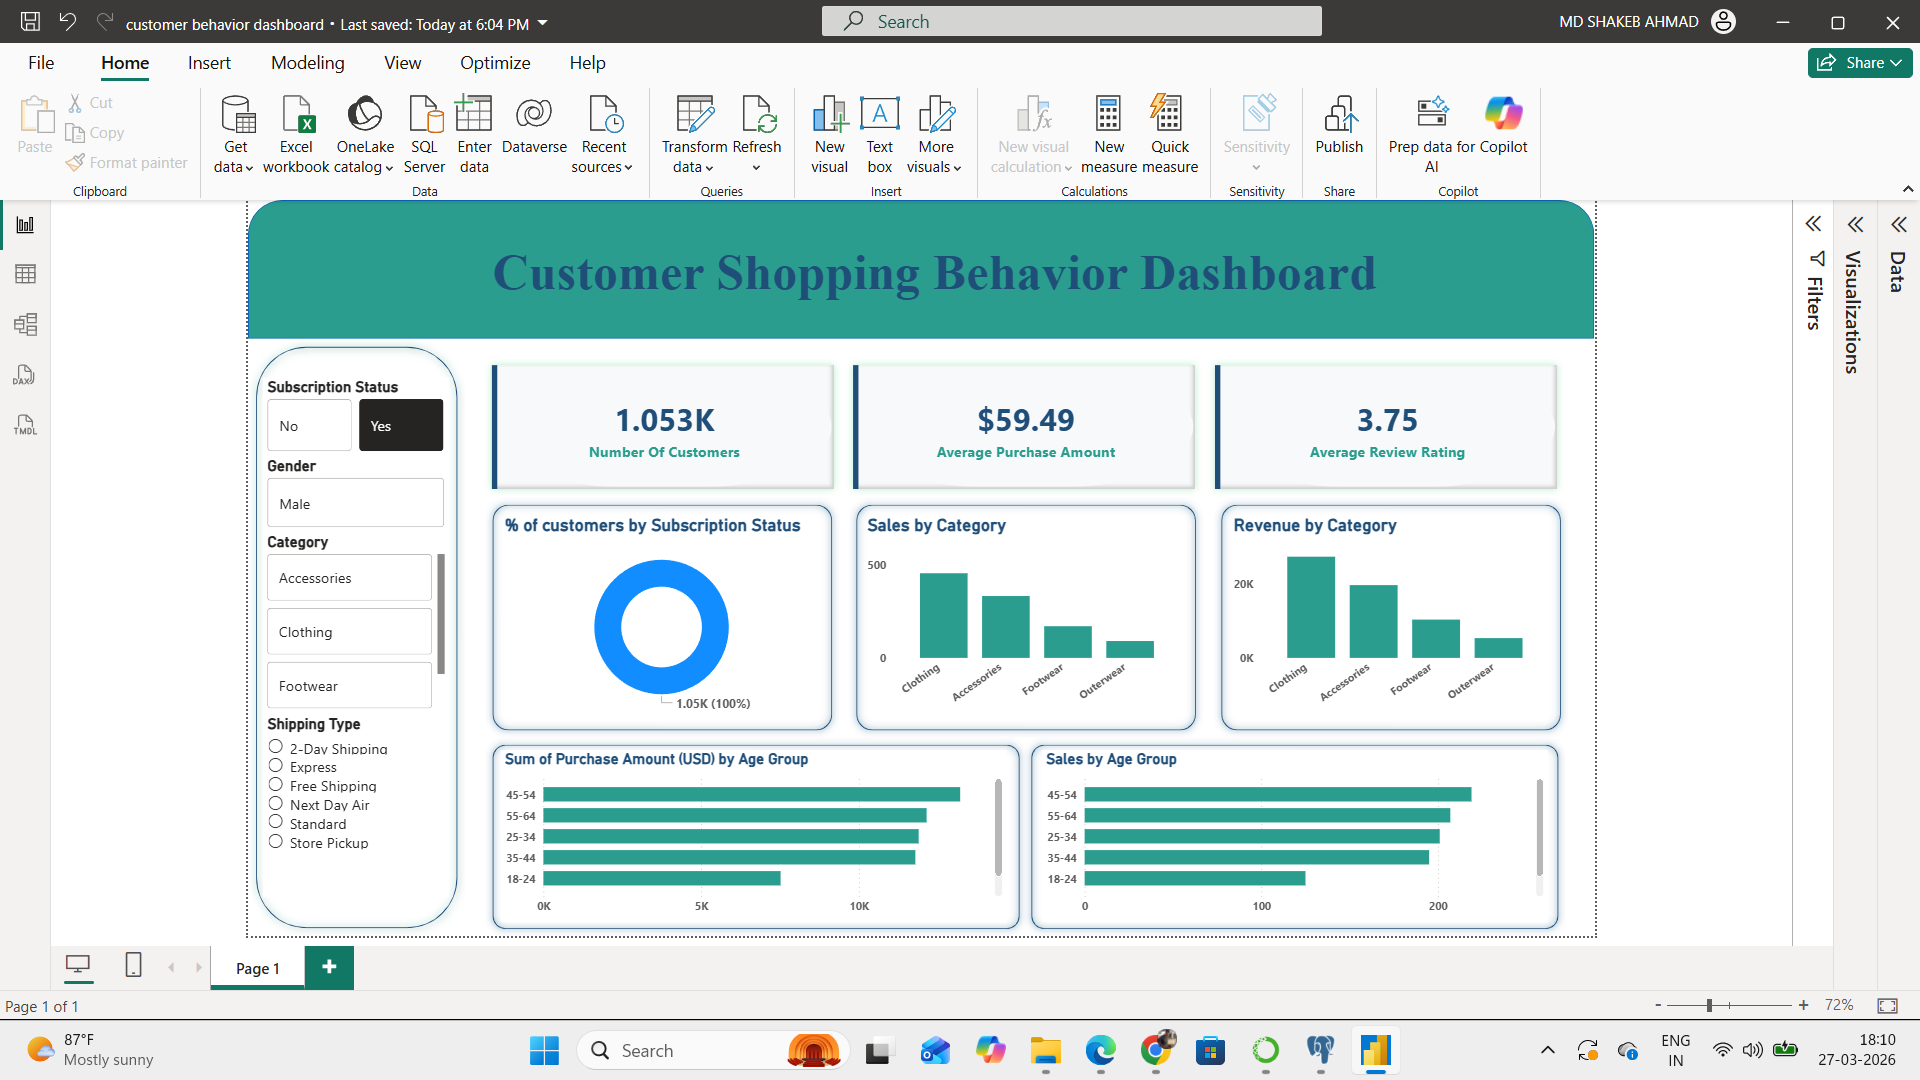

This screenshot's page, from the dashboard's own definition file:
{"tool":"powerbi","page":{"name":"Page 1","canvas":[1500,820],"ordinal":0},"visuals":[{"type":"cardVisual","fields":{"Data":["public customer.Number Of Customers","public customer.Average Purchase Amount","public customer.Average Review Rating"]},"box":[242.3,154.6,1247.8,196.4],"z":0},{"type":"shape","box":[0,0,1499.9,154.6],"z":1000},{"type":"textbox","box":[0,33.4,1499.9,121.2],"z":2000},{"type":"donutChart","title":"% of customers by Subscription Status","fields":{"Category":["public customer.Subscription Status"],"Y":["CountNonNull(public customer.Customer ID)"]},"box":[281.3,351,359.3,228.4],"z":3000},{"type":"clusteredColumnChart","title":"Revenue by Category","fields":{"Y":["Sum(public customer.Purchase Amount (USD))"],"Category":["public customer.Category"]},"box":[1093.2,351,362.1,228.4],"z":4000},{"type":"clusteredColumnChart","title":"Sales by Category","fields":{"Category":["public customer.Category"],"Y":["CountNonNull(public customer.Customer ID)"]},"box":[685.2,351,359.3,228.4],"z":5000},{"type":"shape","box":[264.6,331.5,394.1,267.4],"z":6000},{"type":"shape","box":[669.9,331.5,394.1,267.4],"z":7000},{"type":"shape","box":[1076.5,331.5,394.1,267.4],"z":8000},{"type":"shape","box":[0,154.6,242.3,665.7],"z":8001},{"type":"advancedSlicerVisual","fields":{"Values":["public customer.Subscription Status"]},"box":[16.7,197.8,207.5,87.7],"z":8002},{"type":"advancedSlicerVisual","fields":{"Values":["public customer.Gender"]},"box":[16.7,285.5,207.5,85],"z":8003},{"type":"advancedSlicerVisual","fields":{"Values":["public customer.Category"]},"box":[16.7,370.5,207.5,203.3],"z":8004},{"type":"listSlicer","fields":{"Values":["public customer.Shipping Type"]},"box":[16.7,573.8,207.5,203.3],"z":8005},{"type":"shape","box":[264.6,598.8,603,221.4],"z":8006},{"type":"clusteredBarChart","fields":{"Y":["Sum(public customer.Purchase Amount (USD))"],"Category":["public customer.Age Group"]},"box":[281.3,612.8,564,192.2],"z":8007},{"type":"shape","box":[864.8,598.8,603,221.4],"z":8008},{"type":"clusteredBarChart","title":"Sales by Age Group","fields":{"Y":["CountNonNull(public customer.Customer ID)"],"Category":["public customer.Age Group"]},"box":[884.3,612.8,564,192.2],"z":8009}]}

Visuals, with their boxes on the page's 1500x820 design canvas (x1, y1, x2, y2). These are canvas units, not pixel positions in the 1920x1080 screenshot, which may show the page scaled, cropped or inside an application window:
cardVisual - public customer.Number Of Customers x public customer.Average Purchase Amount: 242/155/1490/351
shape: 0/0/1500/155
textbox: 0/33/1500/155
"% of customers by Subscription Status" donutChart: 281/351/641/579
"Revenue by Category" clusteredColumnChart: 1093/351/1455/579
"Sales by Category" clusteredColumnChart: 685/351/1044/579
shape: 265/332/659/599
shape: 670/332/1064/599
shape: 1076/332/1471/599
shape: 0/155/242/820
advancedSlicerVisual - public customer.Subscription Status: 17/198/224/286
advancedSlicerVisual - public customer.Gender: 17/286/224/370
advancedSlicerVisual - public customer.Category: 17/370/224/574
listSlicer - public customer.Shipping Type: 17/574/224/777
shape: 265/599/868/820
clusteredBarChart - Sum(public customer.Purchase Amount (USD)) x public customer.Age Group: 281/613/845/805
shape: 865/599/1468/820
"Sales by Age Group" clusteredBarChart: 884/613/1448/805
